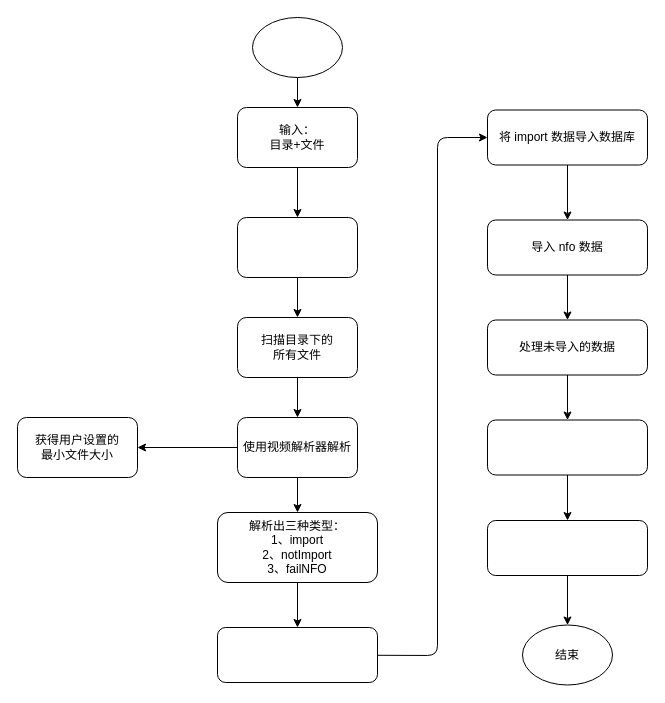
Some shapes in this 665 by 703 pixel diagram are drawn without their labels. The shapes that lost their labels are listed below. From the top down, each one's centre as x and y in pixels, then its label:
At [297,47]: "开始".
At [297,247]: "开启计时".
At [567,447]: "处理未导入的 nfo".
At [567,548]: "停止计时".
At [297,654]: "从 import 中提取出 nfo".
